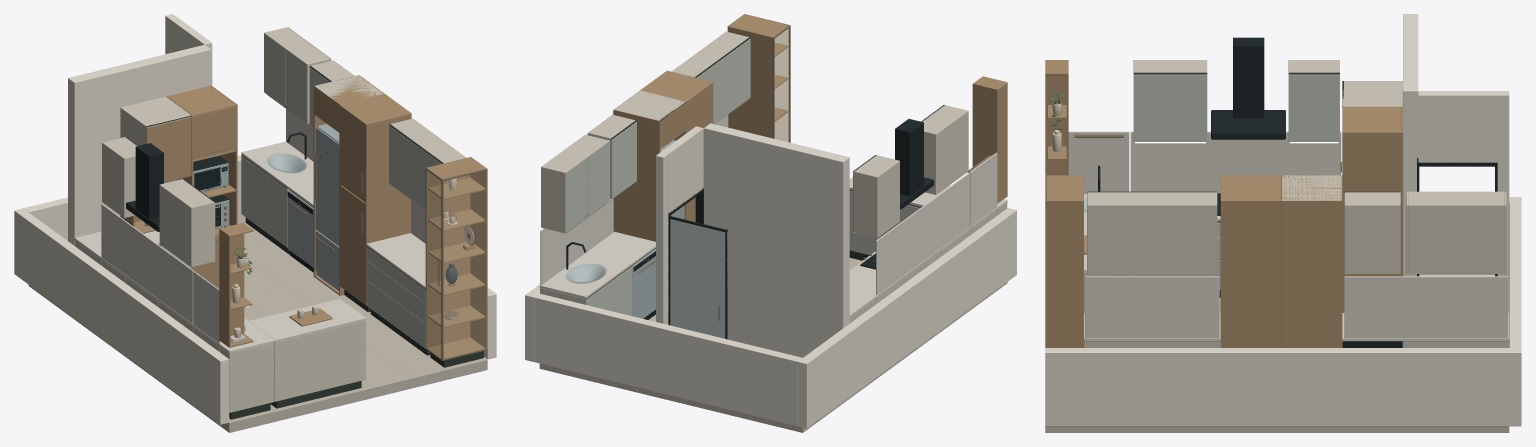
Rendered from configurator-clear-7609df9f5f17.glb.
3 renders of one model, left to right at view 1: azimuth 30°, elevation 25°; view 2: azimuth 150°, elevation 25°; view 3: azimuth 270°, elevation 25°, orthographic. The views are drawn at different scales.
Parts seen in each view (by area): view 1: Surface 10, Surface 3, Surface 7, Surface 2, Surface 1, Surface 9, Surface 19, Surface 11, Surface 4, Surface 8, Surface 6, Surface 16; view 2: Surface 3, Surface 10, Surface 2, Surface 7, Surface 9, Surface 5, Surface 4, Surface 1, Surface 11, Surface 19, Surface 6, Surface 8; view 3: Surface 3, Surface 10, Surface 2, Surface 7, Surface 9, Surface 4, Surface 1, Surface 8.
Boxes of the visible parts, x1,y1,x2,y2 form: Surface 10: [120, 75, 487, 400]; Surface 3: [14, 14, 496, 424]; Surface 7: [75, 27, 466, 412]; Surface 2: [74, 109, 425, 353]; Surface 1: [28, 223, 487, 432]; Surface 9: [100, 33, 440, 348]; Surface 19: [427, 171, 485, 358]; Surface 11: [193, 124, 339, 331]; Surface 4: [126, 132, 327, 272]; Surface 8: [100, 66, 483, 419]; Surface 6: [199, 95, 487, 361]; Surface 16: [144, 222, 318, 337]; Surface 3: [525, 123, 1016, 428]; Surface 10: [613, 14, 1007, 241]; Surface 2: [539, 114, 1007, 317]; Surface 7: [540, 31, 1007, 323]; Surface 9: [566, 39, 919, 316]; Surface 5: [670, 219, 727, 338]; Surface 4: [566, 119, 933, 339]; Surface 1: [539, 258, 1007, 432]; Surface 11: [565, 140, 684, 318]; Surface 19: [774, 28, 788, 142]; Surface 6: [567, 14, 991, 320]; Surface 8: [585, 37, 944, 299]; Surface 3: [1045, 14, 1521, 426]; Surface 10: [1045, 60, 1402, 347]; Surface 2: [1068, 131, 1509, 341]; Surface 7: [1084, 60, 1509, 347]; Surface 9: [1105, 75, 1339, 289]; Surface 4: [1098, 37, 1497, 347]; Surface 1: [1045, 298, 1509, 432]; Surface 8: [1087, 72, 1400, 297].
Bounding box in the file's own units: 3.64 × 2.98 × 4.7.
